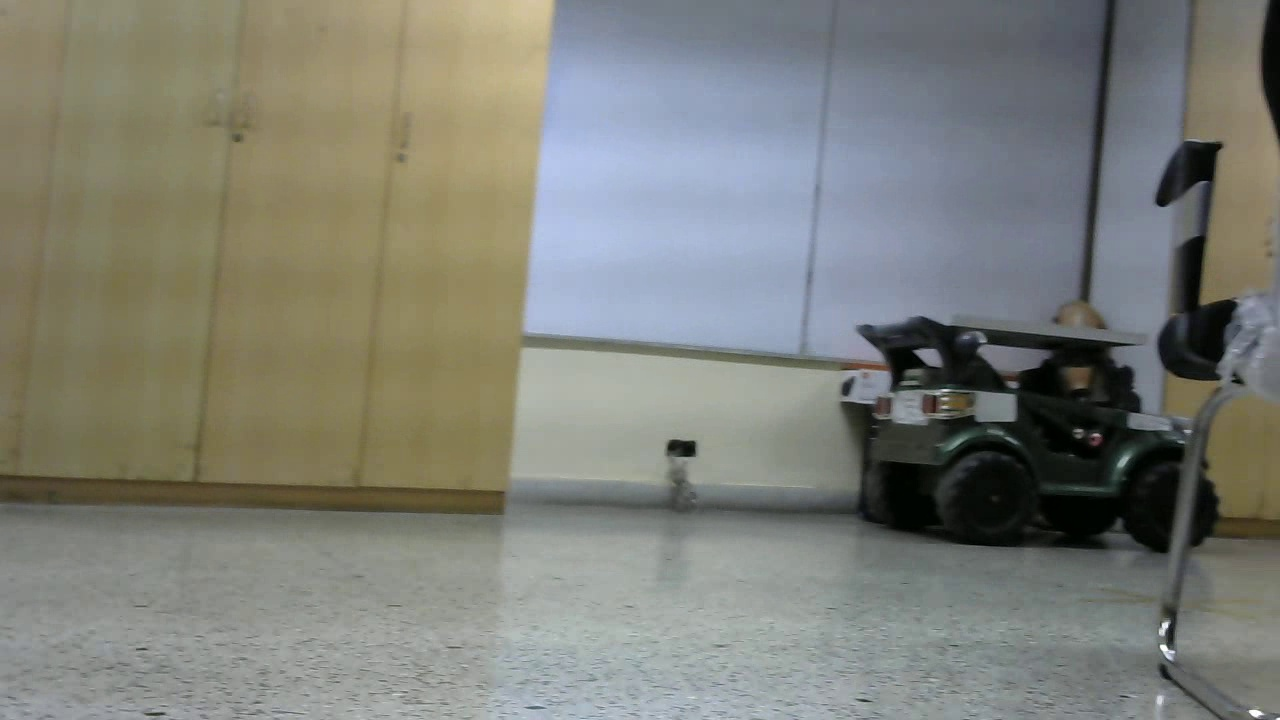chair: (569, 89, 820, 569)
